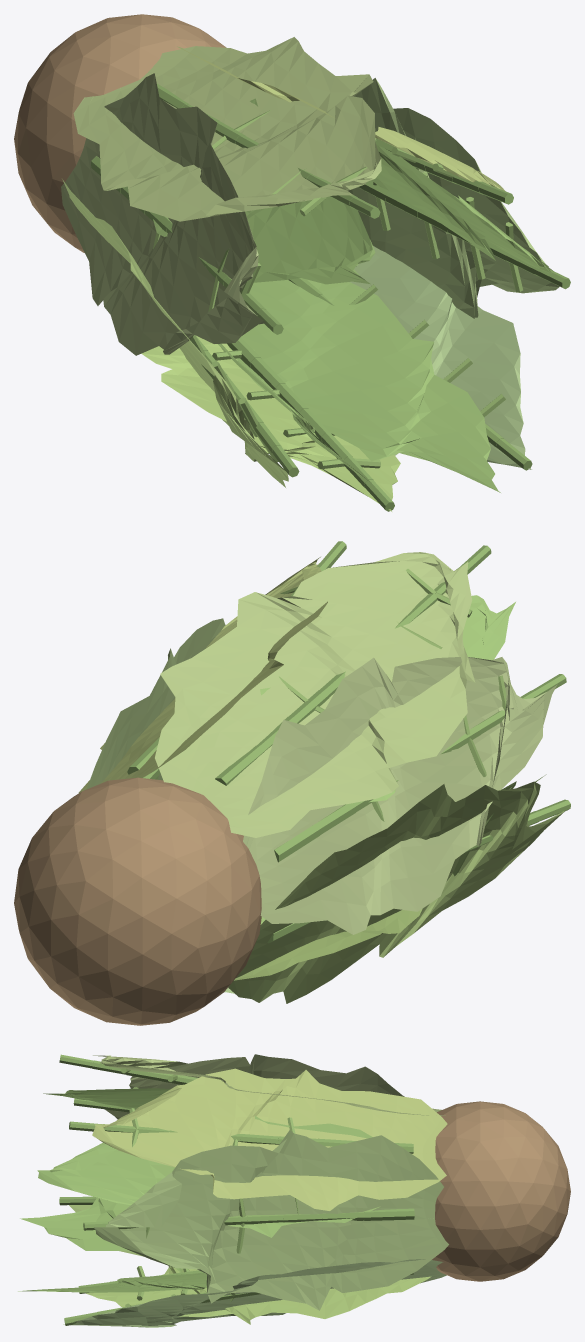
Rendered from seedling.glb.
The picture shows the model from 3 angles, top to bottom: view 1: azimuth 30°, elevation 25°; view 2: azimuth 150°, elevation 25°; view 3: azimuth 270°, elevation 25°; orthographic projection. The views are drawn at different scales.
Visible parts, largest first — view 1: leaf_3, leaf_4, inner_leaf_4, root_crown, leaf_7, leaf_1, inner_leaf_2, leaf_6, inner_leaf_1, leaf_5, leaf_2, inner_leaf_3; view 2: leaf_3, root_crown, leaf_4, leaf_5, leaf_2, leaf_1, leaf_6, inner_leaf_2, vein_4_1, vein_3_1; view 3: leaf_1, leaf_2, root_crown, inner_leaf_1, leaf_7, leaf_4, leaf_6, inner_leaf_3, inner_leaf_4, leaf_3, inner_leaf_2, vein_1_1.
Boxes of the visible parts, x1,y1,x2,y2 form: leaf_3: (73,37,381,221); leaf_4: (61,73,266,355); inner_leaf_4: (237,279,500,492); root_crown: (14,14,225,252); leaf_7: (349,246,531,469); leaf_1: (347,78,559,318); inner_leaf_2: (153,98,375,284); leaf_6: (141,335,400,511); inner_leaf_1: (370,144,551,273); leaf_5: (62,179,288,487); leaf_2: (177,46,504,190); inner_leaf_3: (218,343,369,481); leaf_3: (155,552,475,837); root_crown: (14,777,261,1025); leaf_4: (243,657,557,934); leaf_5: (228,781,565,1003); leaf_2: (78,557,327,792); leaf_1: (86,618,225,789); leaf_6: (234,909,422,980); inner_leaf_2: (260,595,515,807); vein_4_1: (274,824,320,862); vein_3_1: (215,745,264,785); leaf_1: (94,1130,448,1310); leaf_2: (92,1068,447,1210); root_crown: (432,1101,570,1281); inner_leaf_1: (37,1116,380,1237); leaf_7: (63,1259,446,1327); leaf_4: (105,1054,404,1119); leaf_6: (85,1266,431,1324); inner_leaf_3: (20,1197,182,1272); inner_leaf_4: (18,1273,206,1292); leaf_3: (93,1055,445,1115); inner_leaf_2: (43,1088,170,1109); vein_1_1: (364,1208,414,1220).
Size of the model in its own units: 0.571 by 0.5624 by 1.1.
